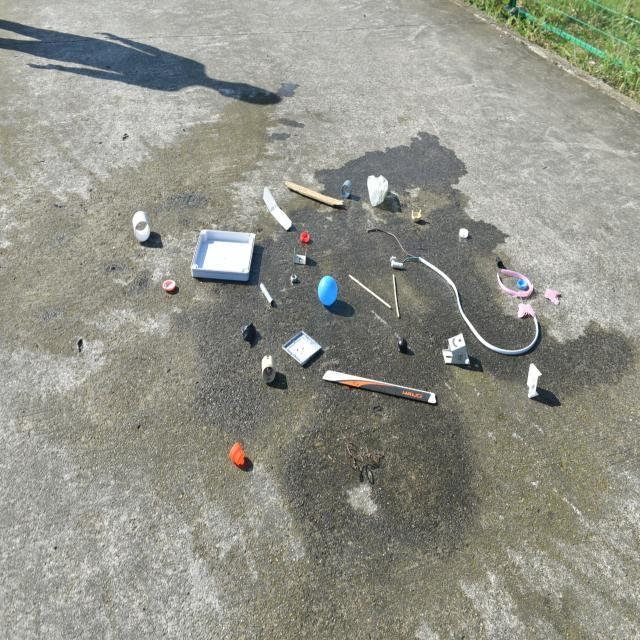Debris: (320, 361, 434, 426), (189, 215, 257, 286), (492, 260, 585, 297), (488, 303, 551, 354), (279, 168, 335, 216), (340, 269, 389, 320), (440, 329, 476, 383), (389, 252, 415, 325), (258, 180, 287, 242), (285, 319, 320, 366), (126, 209, 163, 246), (218, 434, 250, 469), (526, 363, 549, 403), (254, 275, 284, 305), (318, 274, 344, 308), (368, 172, 394, 205), (236, 326, 268, 346), (386, 333, 410, 356), (410, 202, 429, 227), (458, 220, 478, 243), (160, 278, 180, 300), (262, 360, 281, 381), (285, 269, 307, 282), (298, 228, 314, 245), (294, 252, 312, 264), (340, 176, 348, 193)
